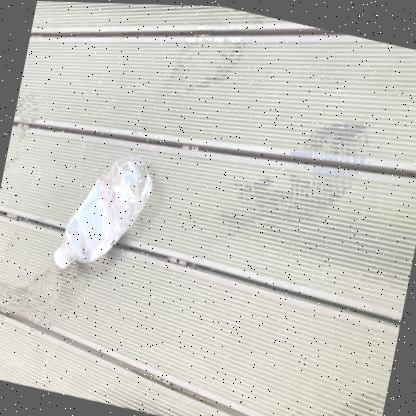Plastic: (54, 153, 152, 267)
